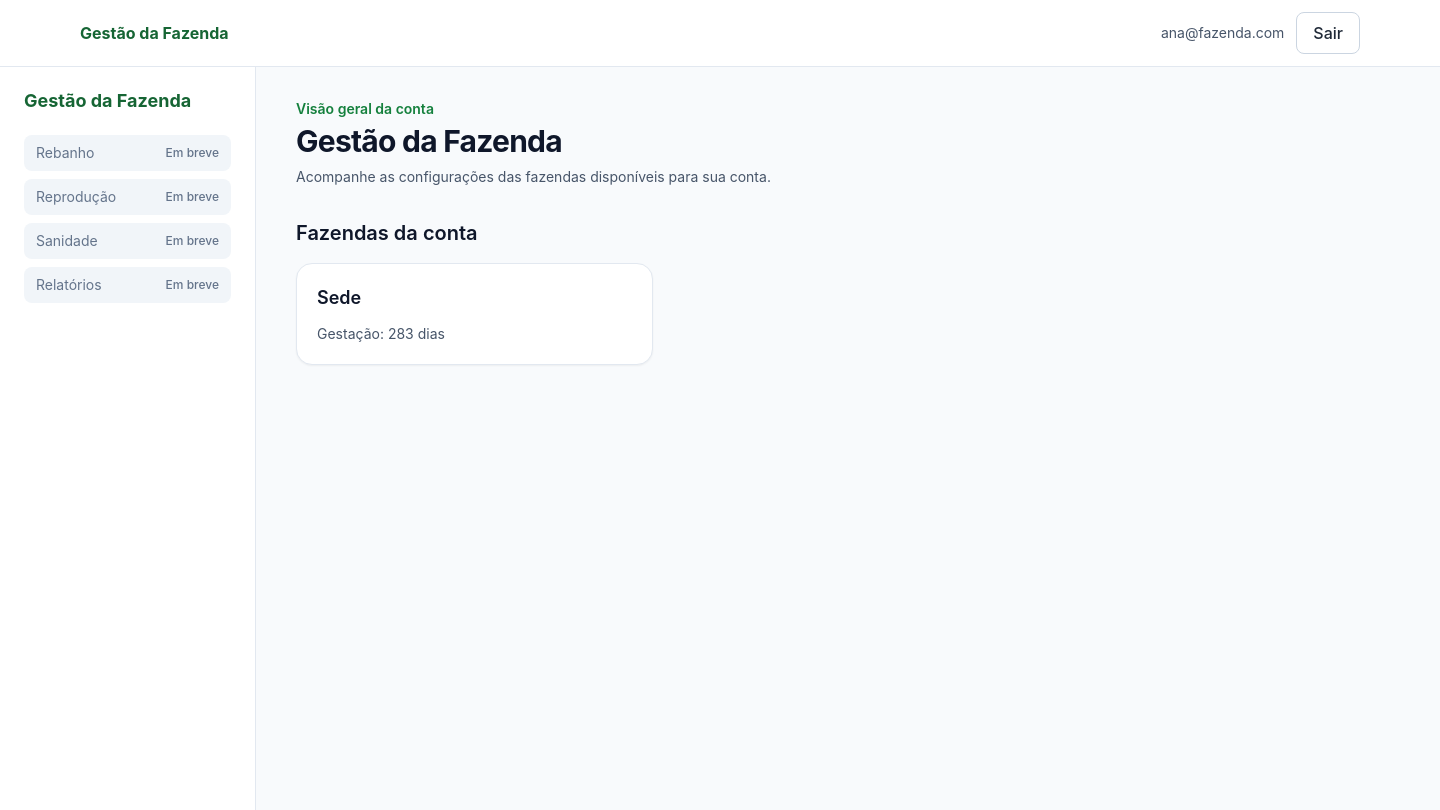
Scenario: application routes › keeps the authenticated area and allows retry when sign-out fails
Click the button "Sair".
click(1328, 33)  # box [1296, 12, 1360, 54]
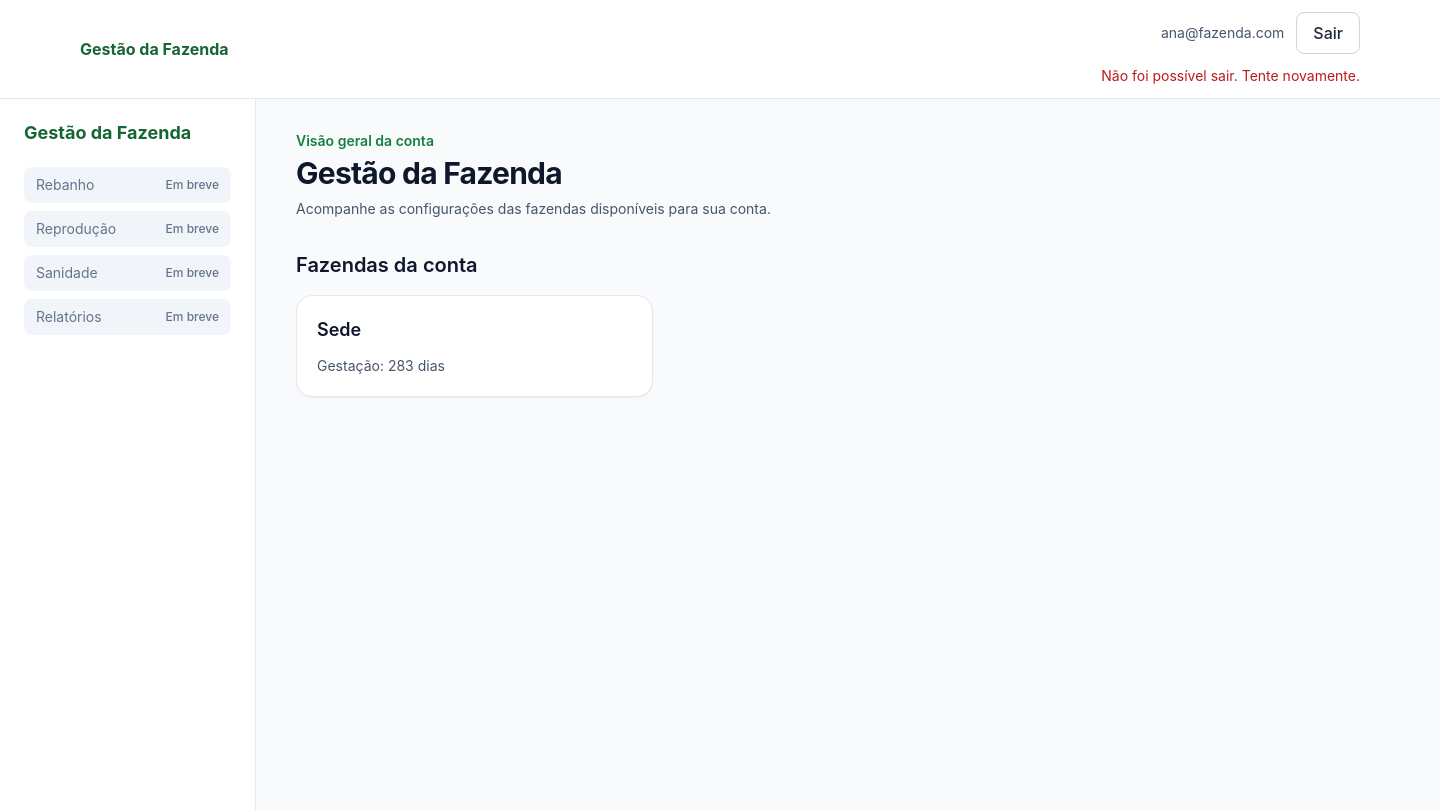
Expected: the heading "Gestão da Fazenda" is shown, [296, 155, 562, 191]
Now the message reads "Não foi possível sair. Tente novamente.", box [1101, 67, 1360, 84]
